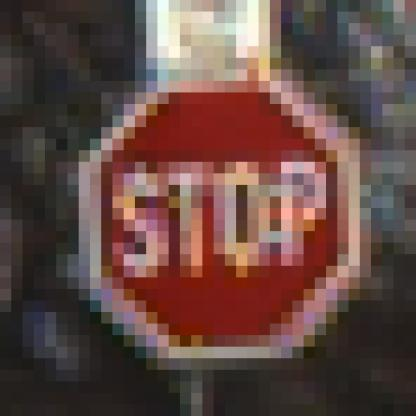stop: (60, 87, 361, 350)
